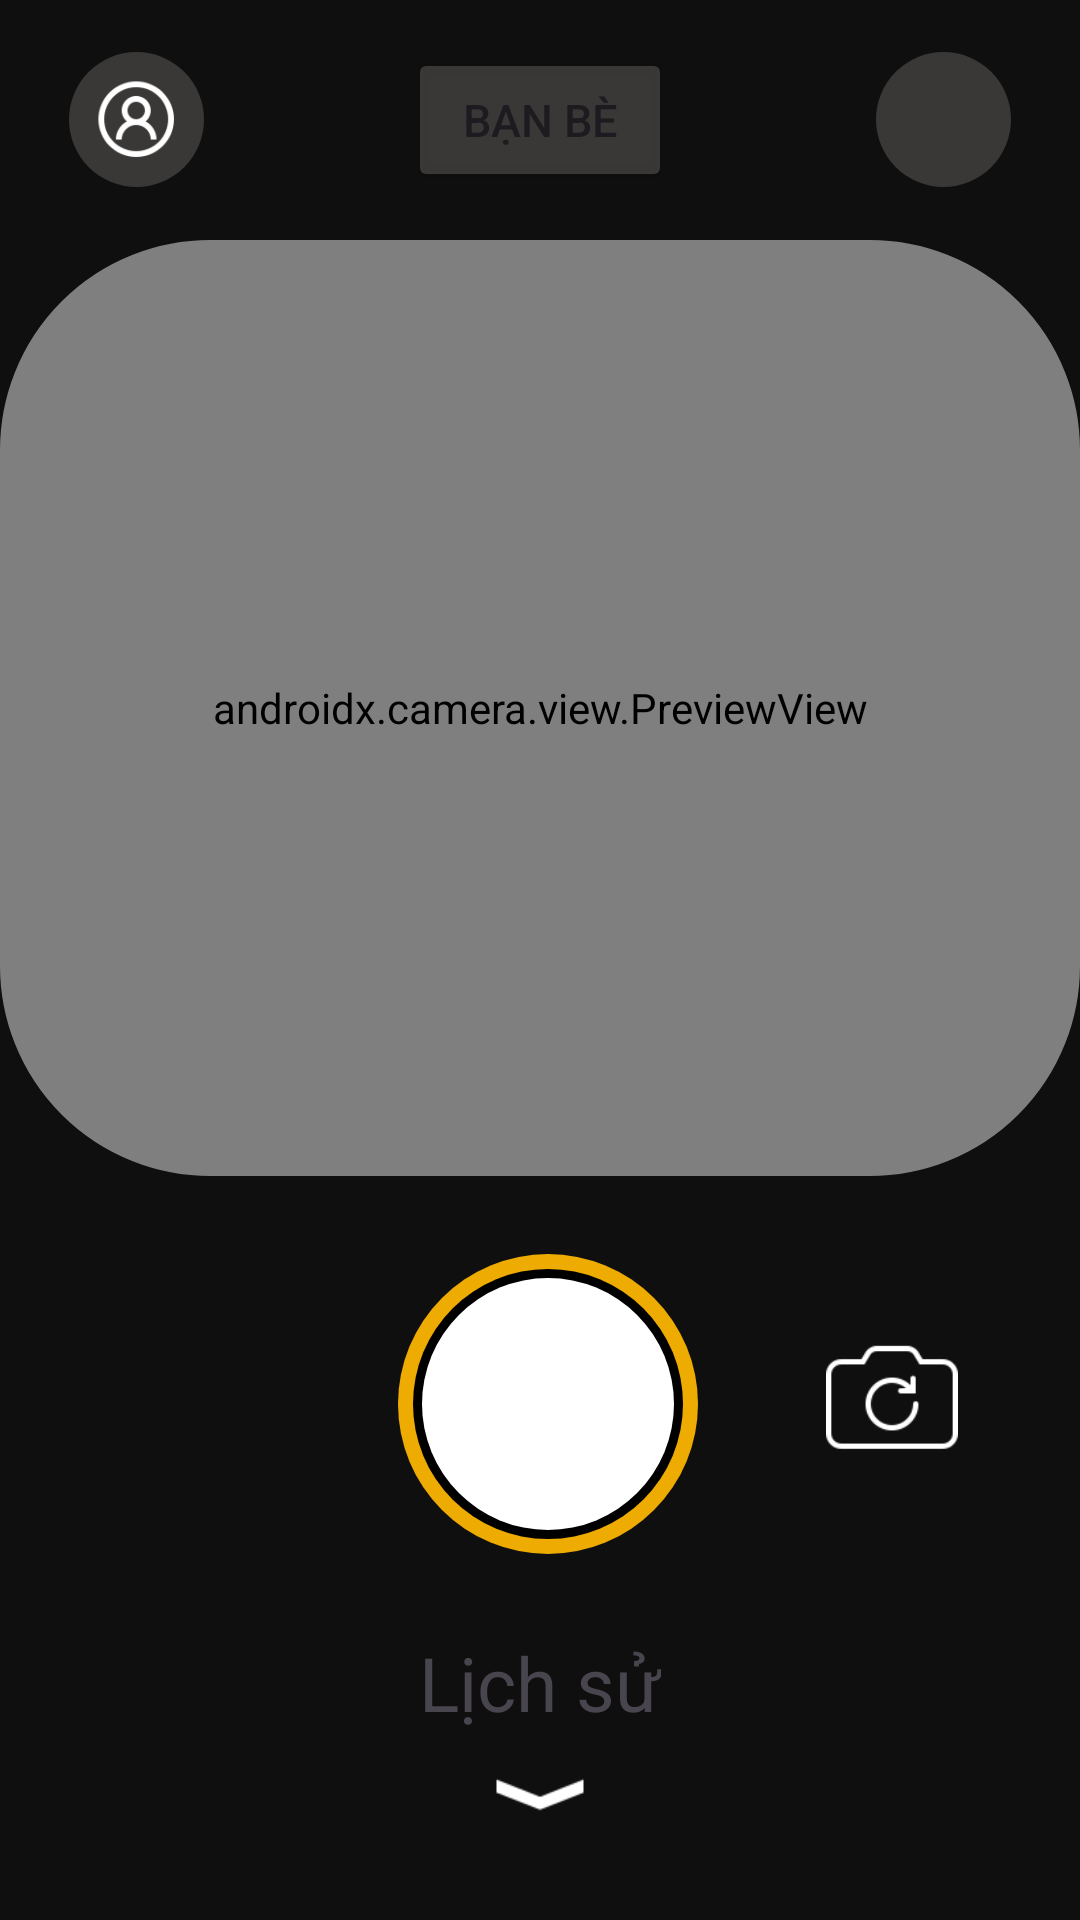

Where icons sit on this 1080w x 1920h app screen, as (x1, y1, x2, y2):
down: (496, 1779, 584, 1810)
retake: (826, 1345, 958, 1449)
user: (69, 52, 204, 187)
